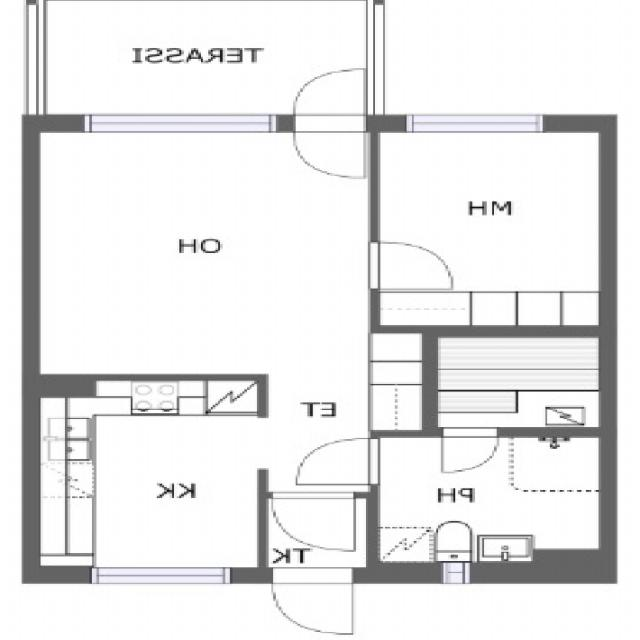door: (273, 567, 353, 633), (273, 492, 355, 550), (294, 115, 366, 178), (294, 69, 366, 132), (296, 438, 381, 484), (371, 242, 454, 288), (444, 428, 499, 472)
